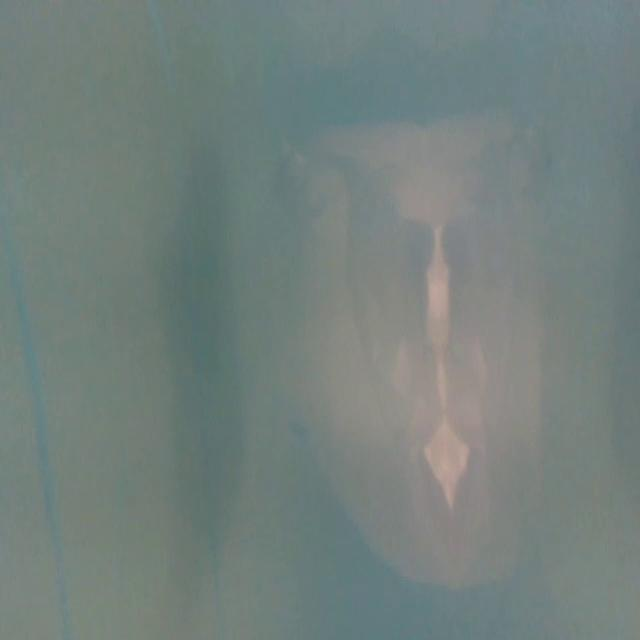plastic bags: (296, 114, 561, 594)
